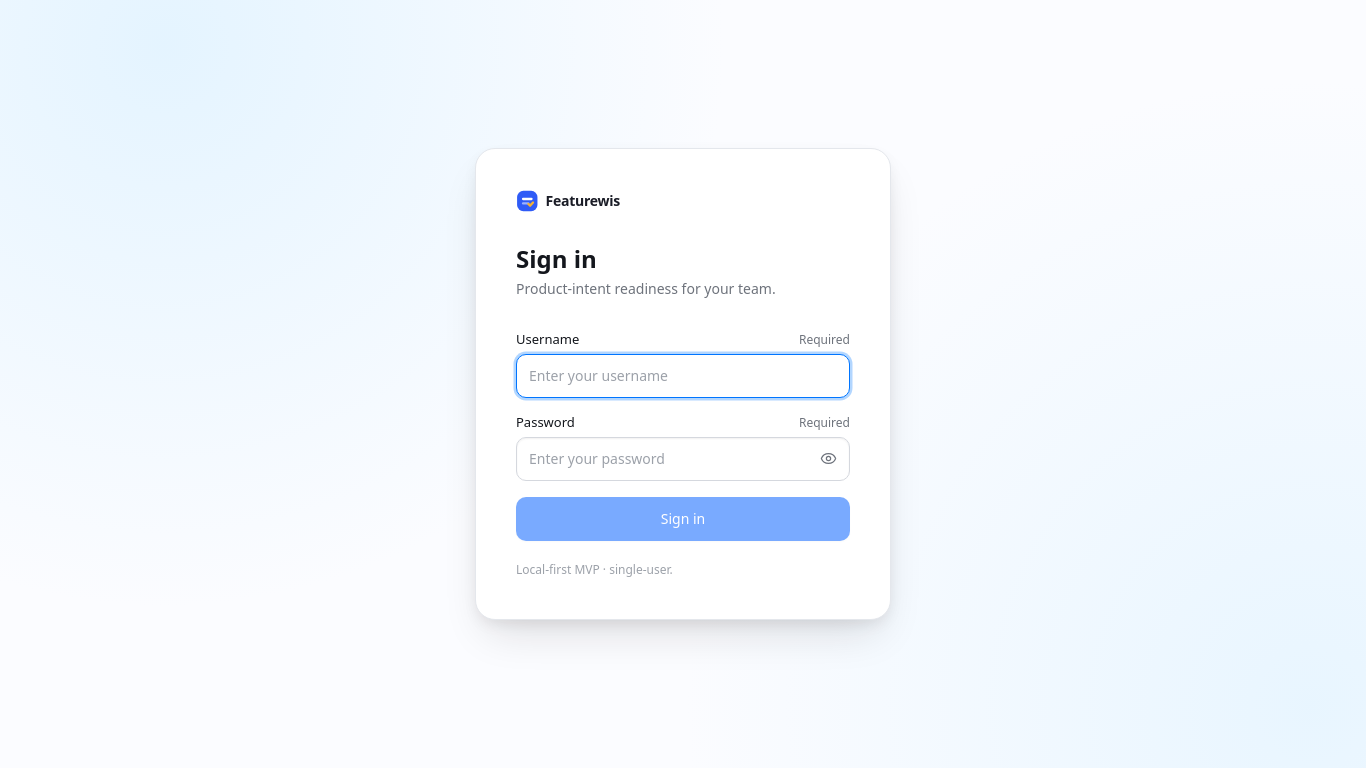
Test: application routes › enables submit only while the form values are valid
Expected: the button "Sign in" is disabled, [516,497,850,541]
Type "marco" into the field labelled "Username" at (683, 376), box [516,354,850,398]
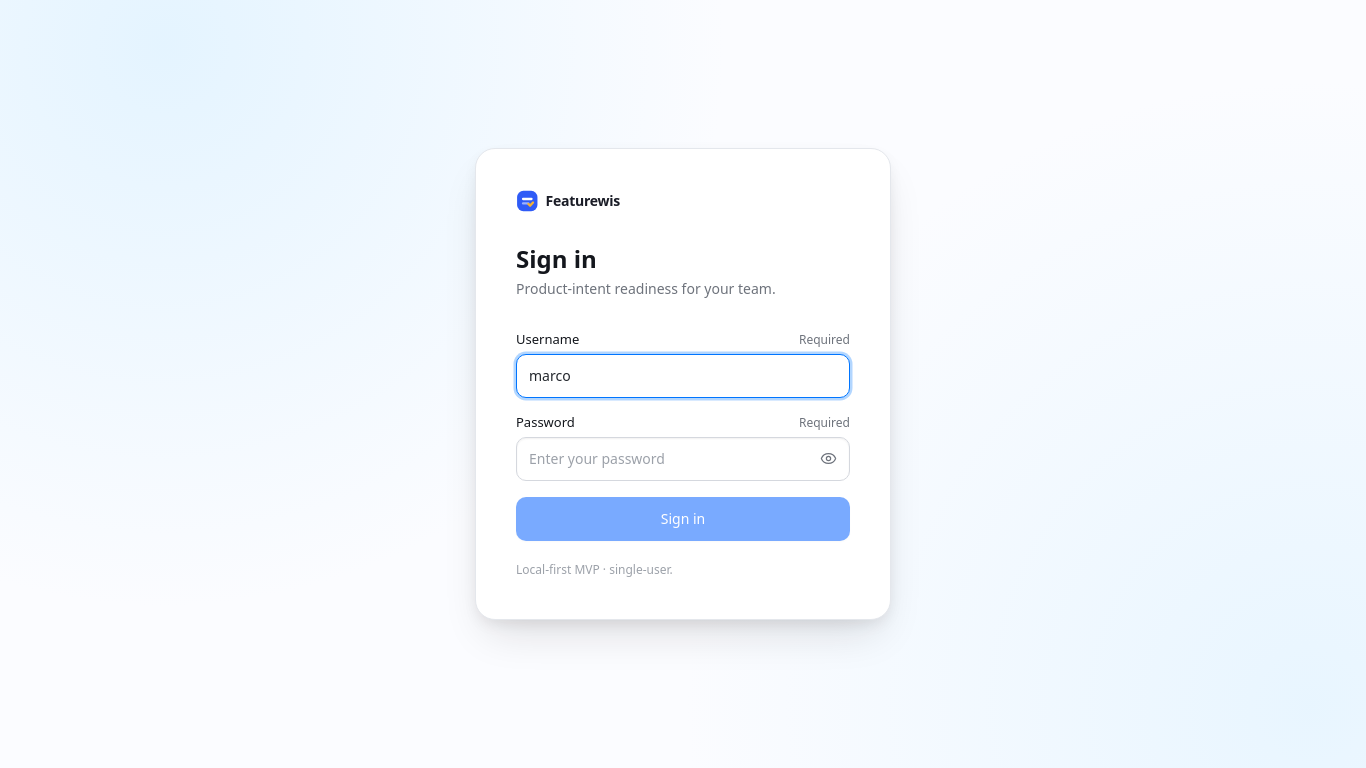
Type "correct-password" into the password field labelled "Password" at (683, 459), box [516,437,850,481]
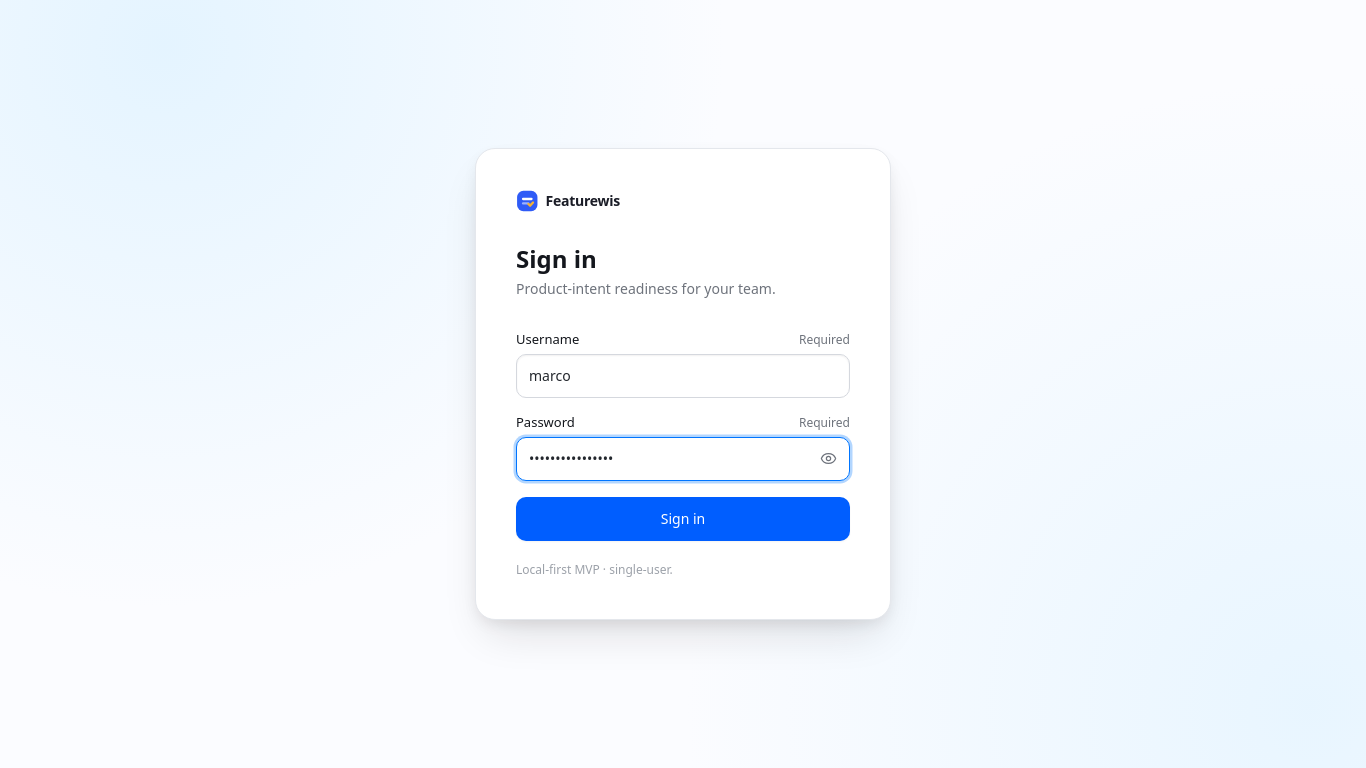
Now the button "Sign in" is enabled, box [516,497,850,541]
Clear the field labelled "Username" at (683, 376), box [516,354,850,398]
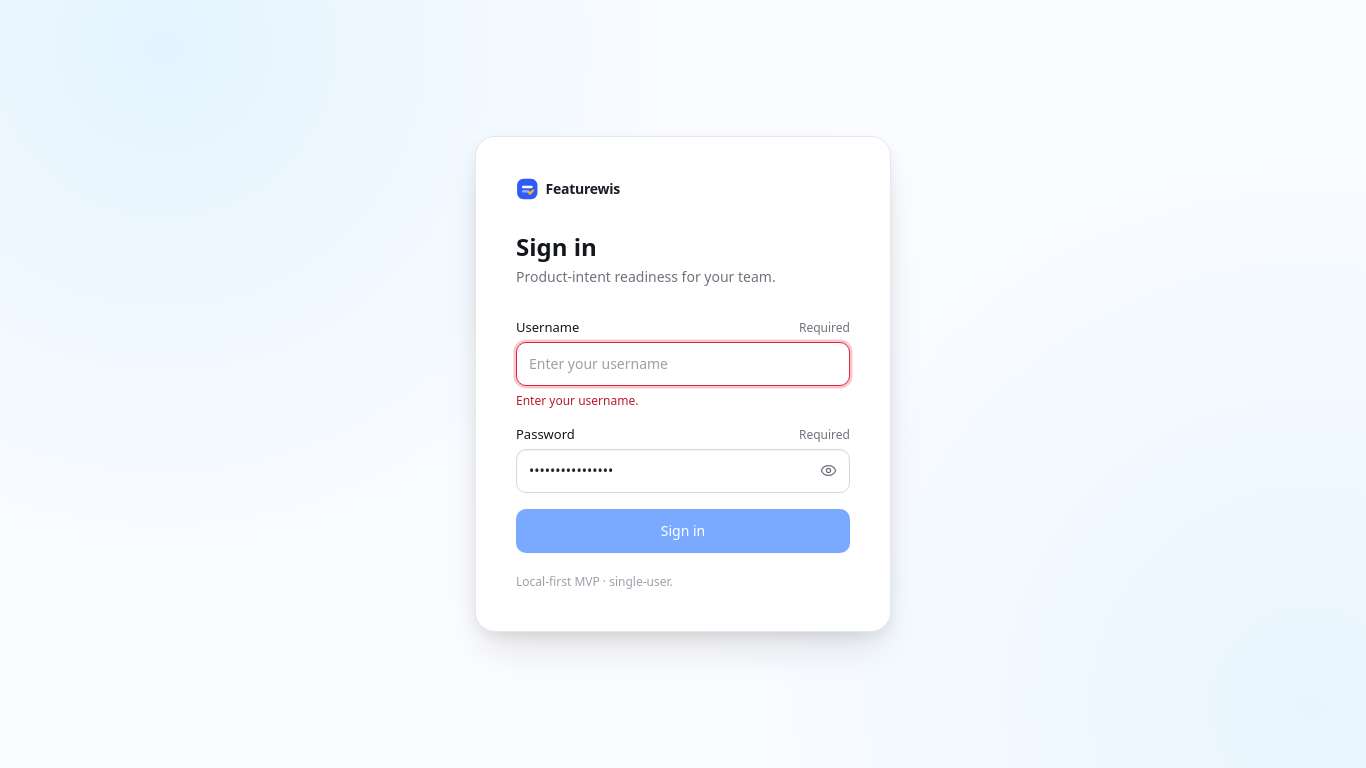
Now the button "Sign in" is disabled, box [516,509,850,553]
